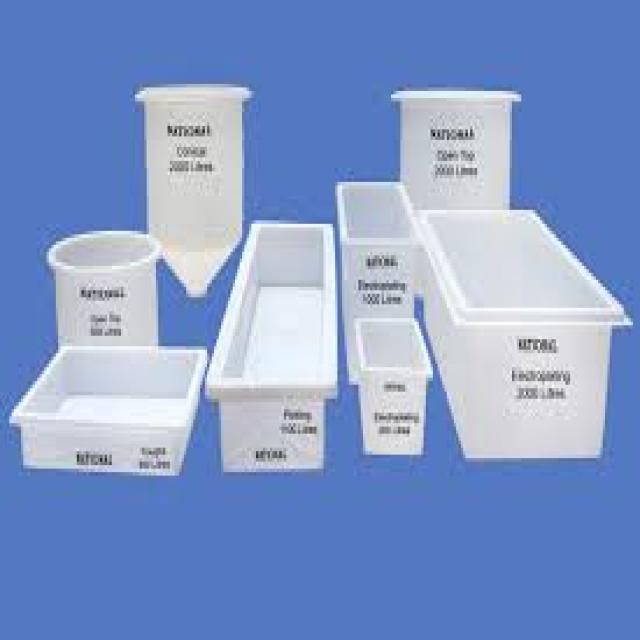basket: (416, 205, 634, 462), (207, 224, 337, 470), (127, 80, 254, 300), (8, 345, 208, 475), (337, 182, 414, 385), (393, 91, 524, 210), (46, 230, 162, 346), (356, 318, 433, 458)
